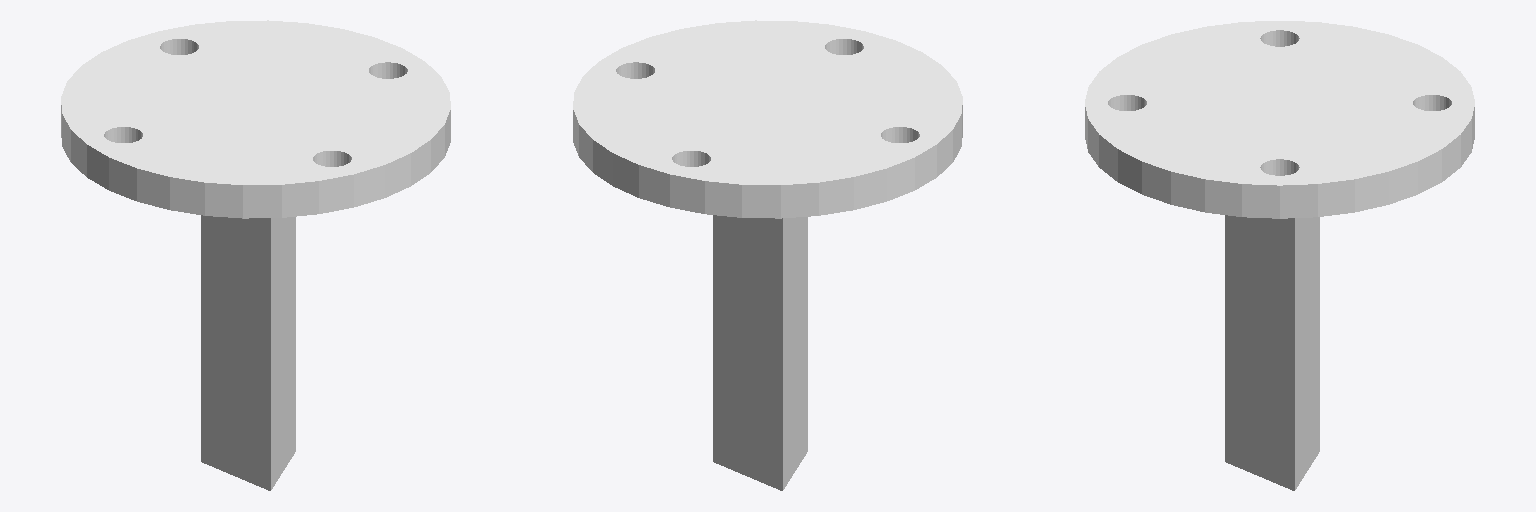
URDF robot description (panda):
<?xml version="1.0" ?>
<robot name="panda" xmlns:xacro="http://www.ros.org/wiki/xacro">
  <link name="panda_link_base">
    <inertial>
      <origin rpy="0 0 0" xyz="0 0 0.05"/>
       <mass value="2.9"/>
       <inertia ixx="0.1" ixy="0" ixz="0" iyy="0.1" iyz="0" izz="0.1"/>
    </inertial>
    <visual>
      <geometry>
        <mesh filename="franka_panda/meshes/collision/link0.obj"/>
      </geometry>
      <material name="panda_white">
    		<color rgba="1. 1. 1. 1."/>
  		</material>
    </visual>
    <collision>
      <geometry>
        <mesh filename="franka_panda/meshes/collision/link0.obj"/>
      </geometry>
      <material name="panda_white"/>
    </collision>
  </link>
  <link name="panda_link_0">
  	<inertial>
      <origin rpy="0 0 0" xyz="0 -0.04 -0.05"/>
       <mass value="2.7"/>
       <inertia ixx="0.1" ixy="0" ixz="0" iyy="0.1" iyz="0" izz="0.1"/>
    </inertial>
    <visual>
      <geometry>
        <mesh filename="franka_panda/meshes/visual/link1.obj"/>
      </geometry>
      <material name="panda_white"/>
    </visual>
    <collision>
      <geometry>
        <mesh filename="franka_panda/meshes/collision/link1.obj"/>
      </geometry>
      <material name="panda_white"/>
    </collision>
  </link>
  <joint name="panda_joint_0" type="revolute">
    <safety_controller k_position="100.0" k_velocity="40.0" soft_lower_limit="-2.8973" soft_upper_limit="2.8973"/>
    <origin rpy="0 0 0" xyz="0 0 0.333"/>
    <parent link="panda_link_base"/>
    <child link="panda_link_0"/>
    <axis xyz="0 0 1"/>
    <limit effort="87" lower="-2.9671" upper="2.9671" velocity="2.1750"/>
  </joint>
  <link name="panda_link_1">
  	<inertial>
      <origin rpy="0 0 0" xyz="0 -0.04 0.06"/>
       <mass value="2.73"/>
       <inertia ixx="0.1" ixy="0" ixz="0" iyy="0.1" iyz="0" izz="0.1"/>
    </inertial>
    <visual>
      <geometry>
        <mesh filename="franka_panda/meshes/visual/link2.obj"/>
      </geometry>
      <material name="panda_white"/>
    </visual>
    <collision>
      <geometry>
        <mesh filename="franka_panda/meshes/collision/link2.obj"/>
      </geometry>
      <material name="panda_white"/>
    </collision>
  </link>
  <joint name="panda_joint_1" type="revolute">
    <safety_controller k_position="100.0" k_velocity="40.0" soft_lower_limit="-1.7628" soft_upper_limit="1.7628"/>
    <origin rpy="-1.57079632679 0 0" xyz="0 0 0"/>
    <parent link="panda_link_0"/>
    <child link="panda_link_1"/>
    <axis xyz="0 0 1"/>
    <limit effort="87" lower="-1.8326" upper="1.8326" velocity="2.1750"/>
  </joint>
  <link name="panda_link_2">
	  <inertial>
      <origin rpy="0 0 0" xyz="0.01 0.01 -0.05"/>
       <mass value="2.04"/>
       <inertia ixx="0.1" ixy="0" ixz="0" iyy="0.1" iyz="0" izz="0.1"/>
    </inertial>
    <visual>
      <geometry>
        <mesh filename="franka_panda/meshes/visual/link3.obj"/>
      </geometry>
      <material name="panda_red">
    		<color rgba="1. 1. 1. 1."/>
  		</material>
    </visual>
    <collision>
      <geometry>
        <mesh filename="franka_panda/meshes/collision/link3.obj"/>
      </geometry>
    </collision>
  </link>
  <joint name="panda_joint_2" type="revolute">
    <safety_controller k_position="100.0" k_velocity="40.0" soft_lower_limit="-2.8973" soft_upper_limit="2.8973"/>
    <origin rpy="1.57079632679 0 0" xyz="0 -0.316 0"/>
    <parent link="panda_link_1"/>
    <child link="panda_link_2"/>
    <axis xyz="0 0 1"/>
    <limit effort="87" lower="-2.9671" upper="2.9671" velocity="2.1750"/>
  </joint>
  <link name="panda_link_3">
  	<inertial>
      <origin rpy="0 0 0" xyz="-0.03 0.03 0.02"/>
       <mass value="2.08"/>
       <inertia ixx="0.1" ixy="0" ixz="0" iyy="0.1" iyz="0" izz="0.1"/>
    </inertial>
    <visual>
      <geometry>
        <mesh filename="franka_panda/meshes/visual/link4.obj"/>
      </geometry>
      <material name="panda_white"/>
    </visual>
    <collision>
      <geometry>
        <mesh filename="franka_panda/meshes/collision/link4.obj"/>
      </geometry>
      <material name="panda_white"/>
    </collision>
  </link>
  <joint name="panda_joint_3" type="revolute">
    <safety_controller k_position="100.0" k_velocity="40.0" soft_lower_limit="-3.0718" soft_upper_limit="-0.0698"/>
    <origin rpy="1.57079632679 0 0" xyz="0.0825 0 0"/>
    <parent link="panda_link_2"/>
    <child link="panda_link_3"/>
    <axis xyz="0 0 1"/>
    <limit effort="87" lower="-3.1416" upper="0.0" velocity="2.1750"/>
  </joint>
  <link name="panda_link_4">
  	<inertial>
      <origin rpy="0 0 0" xyz="0 0.04 -0.12"/>
       <mass value="3"/>
       <inertia ixx="0.1" ixy="0" ixz="0" iyy="0.1" iyz="0" izz="0.1"/>
    </inertial>
    <visual>
      <geometry>
        <mesh filename="franka_panda/meshes/visual/link5.obj"/>
      </geometry>
      <material name="panda_white"/>
    </visual>
    <collision>
      <geometry>
        <mesh filename="franka_panda/meshes/collision/link5.obj"/>
      </geometry>
      <material name="panda_white"/>
    </collision>
  </link>
  <joint name="panda_joint_4" type="revolute">
    <safety_controller k_position="100.0" k_velocity="40.0" soft_lower_limit="-2.8973" soft_upper_limit="2.8973"/>
    <origin rpy="-1.57079632679 0 0" xyz="-0.0825 0.384 0"/>
    <parent link="panda_link_3"/>
    <child link="panda_link_4"/>
    <axis xyz="0 0 1"/>
    <limit effort="12" lower="-2.9671" upper="2.9671" velocity="2.6100"/>
  </joint>
  <link name="panda_link_5">
  	<inertial>
      <origin rpy="0 0 0" xyz="0.04 0 0"/>
       <mass value="1.3"/>
       <inertia ixx="0.1" ixy="0" ixz="0" iyy="0.1" iyz="0" izz="0.1"/>
    </inertial>
    <visual>
      <geometry>
        <mesh filename="franka_panda/meshes/visual/link6.obj"/>
      </geometry>
      <material name="panda_white"/>
    </visual>
    <collision>
      <geometry>
        <mesh filename="franka_panda/meshes/collision/link6.obj"/>
      </geometry>
      <material name="panda_white"/>
    </collision>
  </link>
  <joint name="panda_joint_5" type="revolute">
    <safety_controller k_position="100.0" k_velocity="40.0" soft_lower_limit="-0.0175" soft_upper_limit="3.7525"/>
    <origin rpy="1.57079632679 0 0" xyz="0 0 0"/>
    <parent link="panda_link_4"/>
    <child link="panda_link_5"/>
    <axis xyz="0 0 1"/>
    <limit effort="12" lower="-0.0873" upper="3.8223" velocity="2.6100"/>
  </joint>
  <link name="panda_link_6">
  	<inertial>
      <origin rpy="0 0 0" xyz="0 0 0.08"/>
       <mass value=".2"/>
       <inertia ixx="0.1" ixy="0" ixz="0" iyy="0.1" iyz="0" izz="0.1"/>
    </inertial>
    <visual>
      <geometry>
        <mesh filename="franka_panda/meshes/collision/link7.obj"/>
      </geometry>
      <material name="panda_white"/>
    </visual>
    <collision>
      <geometry>
        <mesh filename="franka_panda/meshes/collision/link7.obj"/>
      </geometry>
      <material name="panda_white"/>
    </collision>
  </link>
  <joint name="panda_joint_6" type="revolute">
    <safety_controller k_position="100.0" k_velocity="40.0" soft_lower_limit="-2.8973" soft_upper_limit="2.8973"/>
    <origin rpy="1.57079632679 0 0" xyz="0.088 0 0"/>
    <parent link="panda_link_5"/>
    <child link="panda_link_6"/>
    <axis xyz="0 0 1"/>
    <limit effort="12" lower="-2.9671" upper="2.9671" velocity="2.6100"/>
  </joint>

  <link name="peg_link">
<!--     <contact>
      <stiffness value="300000.0"/>
      <damping value="100.0"/>
      <lateral_friction value="0"/>
      <spinning_friction value="0"/>
      <rolling_friction value="0"/>
    </contact> -->
    <inertial>
      <origin rpy="0 0 0" xyz="0 0 0"/>
       <mass value=".2"/>
       <inertia ixx="0.1" ixy="0" ixz="0" iyy="0.1" iyz="0" izz="0.1"/>
    </inertial>
    <visual>
      <geometry>
        <!-- <cylinder length="0.001" radius="0.001"/> -->
        <mesh filename="peg.obj" scale="1 1 1"/>
      </geometry>
      <material name="panda_white"/>
    </visual>
    <collision>
      <geometry>
        <!-- <cylinder length="0.001" radius="0.001"/> -->
        <mesh filename="peg.obj" scale="1 1 1"/>
      </geometry>
      <material name="panda_white"/>
    </collision>
  </link>

  <joint name="panda_peg_joint" type="fixed">
    <!-- <origin rpy="0 0 -0.785398" xyz="0 0 0.105"/> -->
    <origin rpy="0 0 2.35619432679" xyz="0 0 0.105"/>
    <parent link="panda_link_6"/>
    <child link="peg_link"/>
    <axis xyz="0 0 0"/>
  </joint>

  <link name="camera_eye_link">
  <inertial>
      <origin rpy="0 0 0" xyz="0 0 0"/>
       <mass value="0.0"/>
       <inertia ixx="0.1" ixy="0" ixz="0" iyy="0.1" iyz="0" izz="0.1"/>
    </inertial>
   </link>

 <joint name="peg_camera_joint" type="fixed">
    <parent link="peg_link"/>
    <child link="camera_eye_link"/>
    <origin rpy="3.4382986 0 0" xyz="-0.032465 0.11689 -0.018024"/>
 </joint>

  <link name="end_effector_link">
  <inertial>
      <origin rpy="0 0 0" xyz="0 0 0"/>
       <mass value="0.0"/>
       <inertia ixx="0.1" ixy="0" ixz="0" iyy="0.1" iyz="0" izz="0.1"/>
    </inertial>
   </link>

 <joint name="peg_end_effector_joint" type="fixed">
    <parent link="peg_link"/>
    <child link="end_effector_link"/>
    <origin rpy="0 0 0" xyz="0 0 0.066"/>
 </joint>

</robot>

--- Facts derived from the render (not from the file) ---
The picture shows the robot from 3 angles, left to right: view 1: azimuth 30°, elevation 25°; view 2: azimuth 150°, elevation 25°; view 3: azimuth 270°, elevation 25°; orthographic projection.
Robot: panda — 11 links, 10 joints (7 revolute, 3 fixed); root link panda_link_base; default pose: all joints at 0.
Visible links, largest first — view 1: peg_link; view 2: peg_link; view 3: peg_link.
Boxes of the visible links, x1,y1,x2,y2 form: peg_link: (61, 20, 450, 490); peg_link: (573, 20, 962, 490); peg_link: (1085, 21, 1474, 490).
Size in the robot's own frame: 0.064 by 0.064 by 0.066 metres.
Meshes: 9 distinct files referenced, 1 mesh visuals loaded (1 OBJ); not drawn: 8 (reference not matched to a file when rendering).